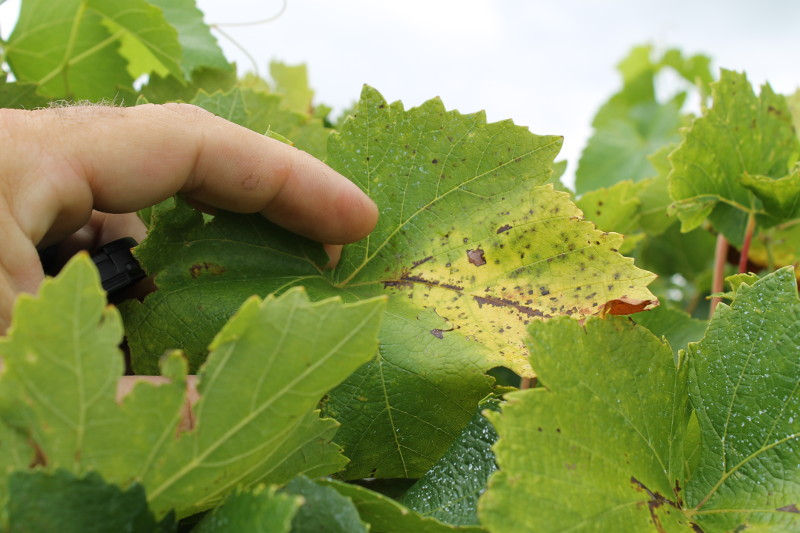downy: (402, 190, 573, 316), (619, 471, 797, 533), (437, 318, 522, 370), (580, 228, 619, 298)
